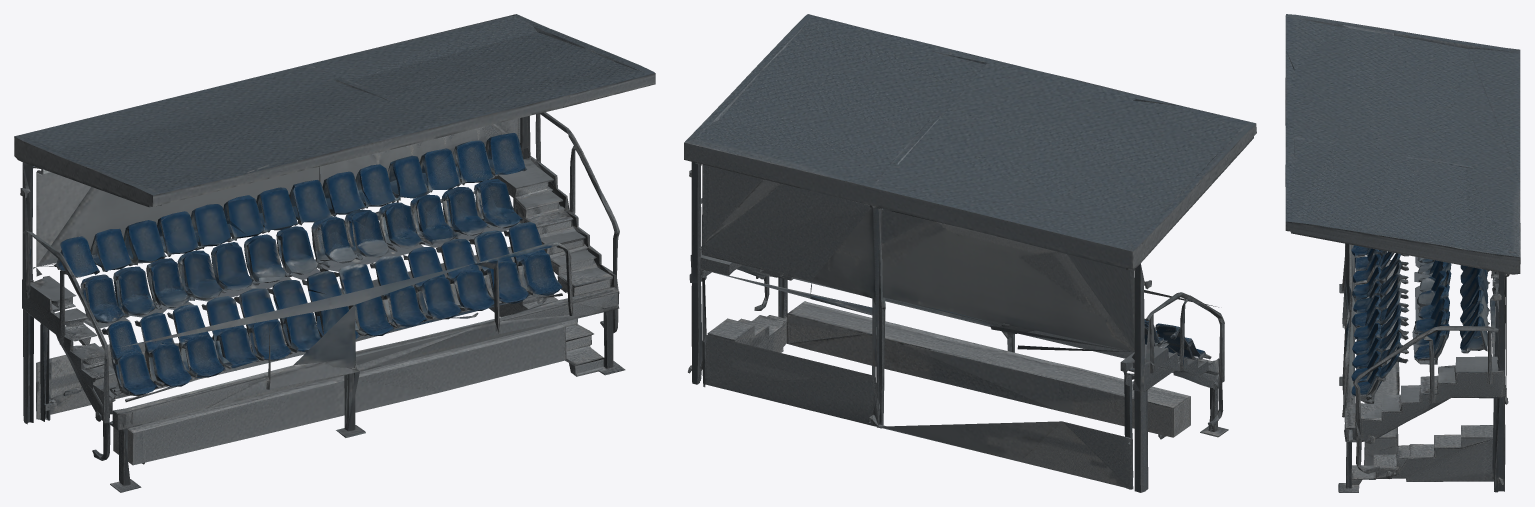
File: silverstone-grandstand.glb
3 renders of one model, left to right at view 1: azimuth 30°, elevation 25°; view 2: azimuth 150°, elevation 25°; view 3: azimuth 270°, elevation 25°, orthographic. The views are drawn at different scales.
Visible parts, largest first — view 1: mesh_node; view 2: mesh_node; view 3: mesh_node.
Boxes of the visible parts, x1=… form: mesh_node: x1=14, y1=14, x2=655, y2=492; mesh_node: x1=684, y1=14, x2=1256, y2=492; mesh_node: x1=1285, y1=14, x2=1520, y2=492.
Size of the model in its own units: 1.9 by 1.13 by 0.888.
1 material, 1 textured.
